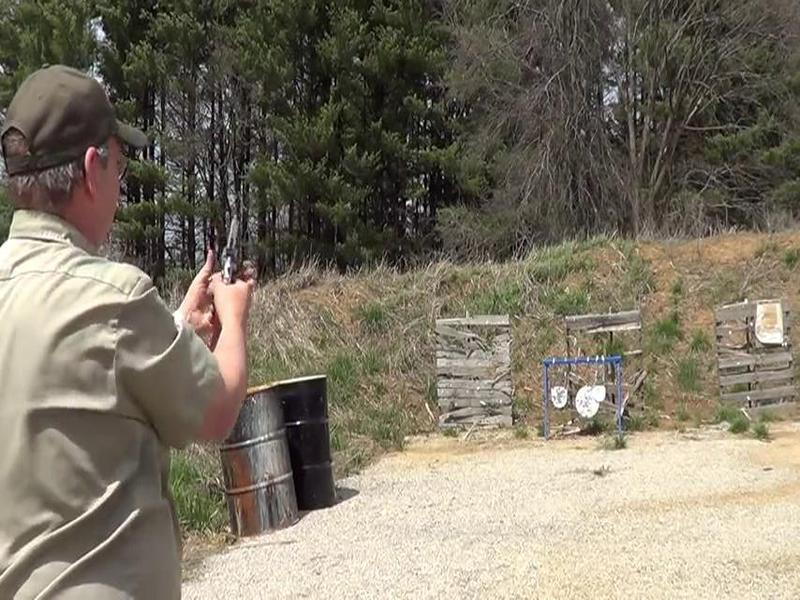Revolver: (200, 214, 274, 329)
